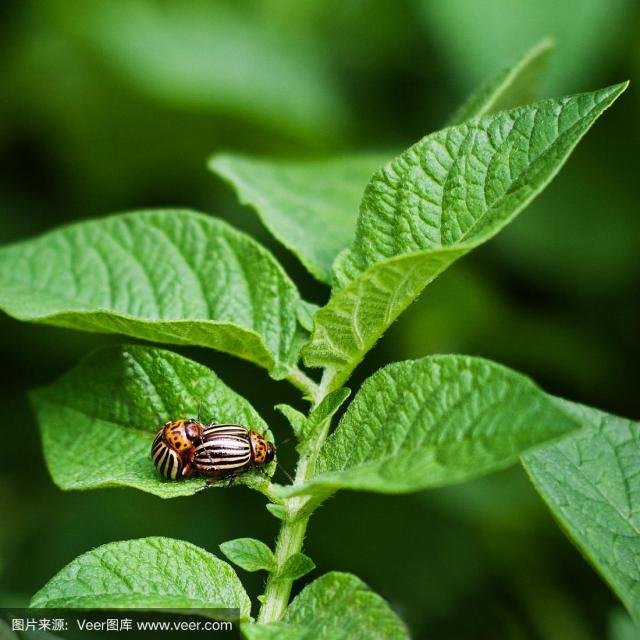ShuCaiHuaBanChong-Grown-: (142, 405, 204, 486), (187, 426, 280, 477)
